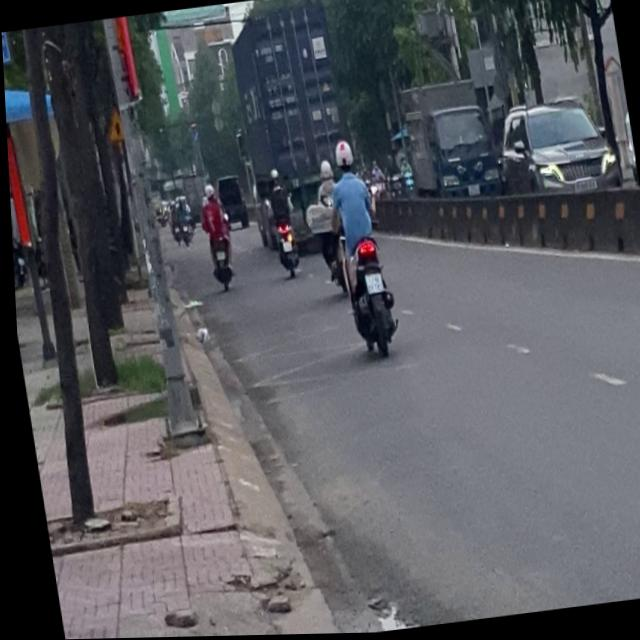helmet: (332, 139, 354, 175)
licenseplate: (319, 135, 401, 361)
nohelmet: (361, 274, 380, 294)
